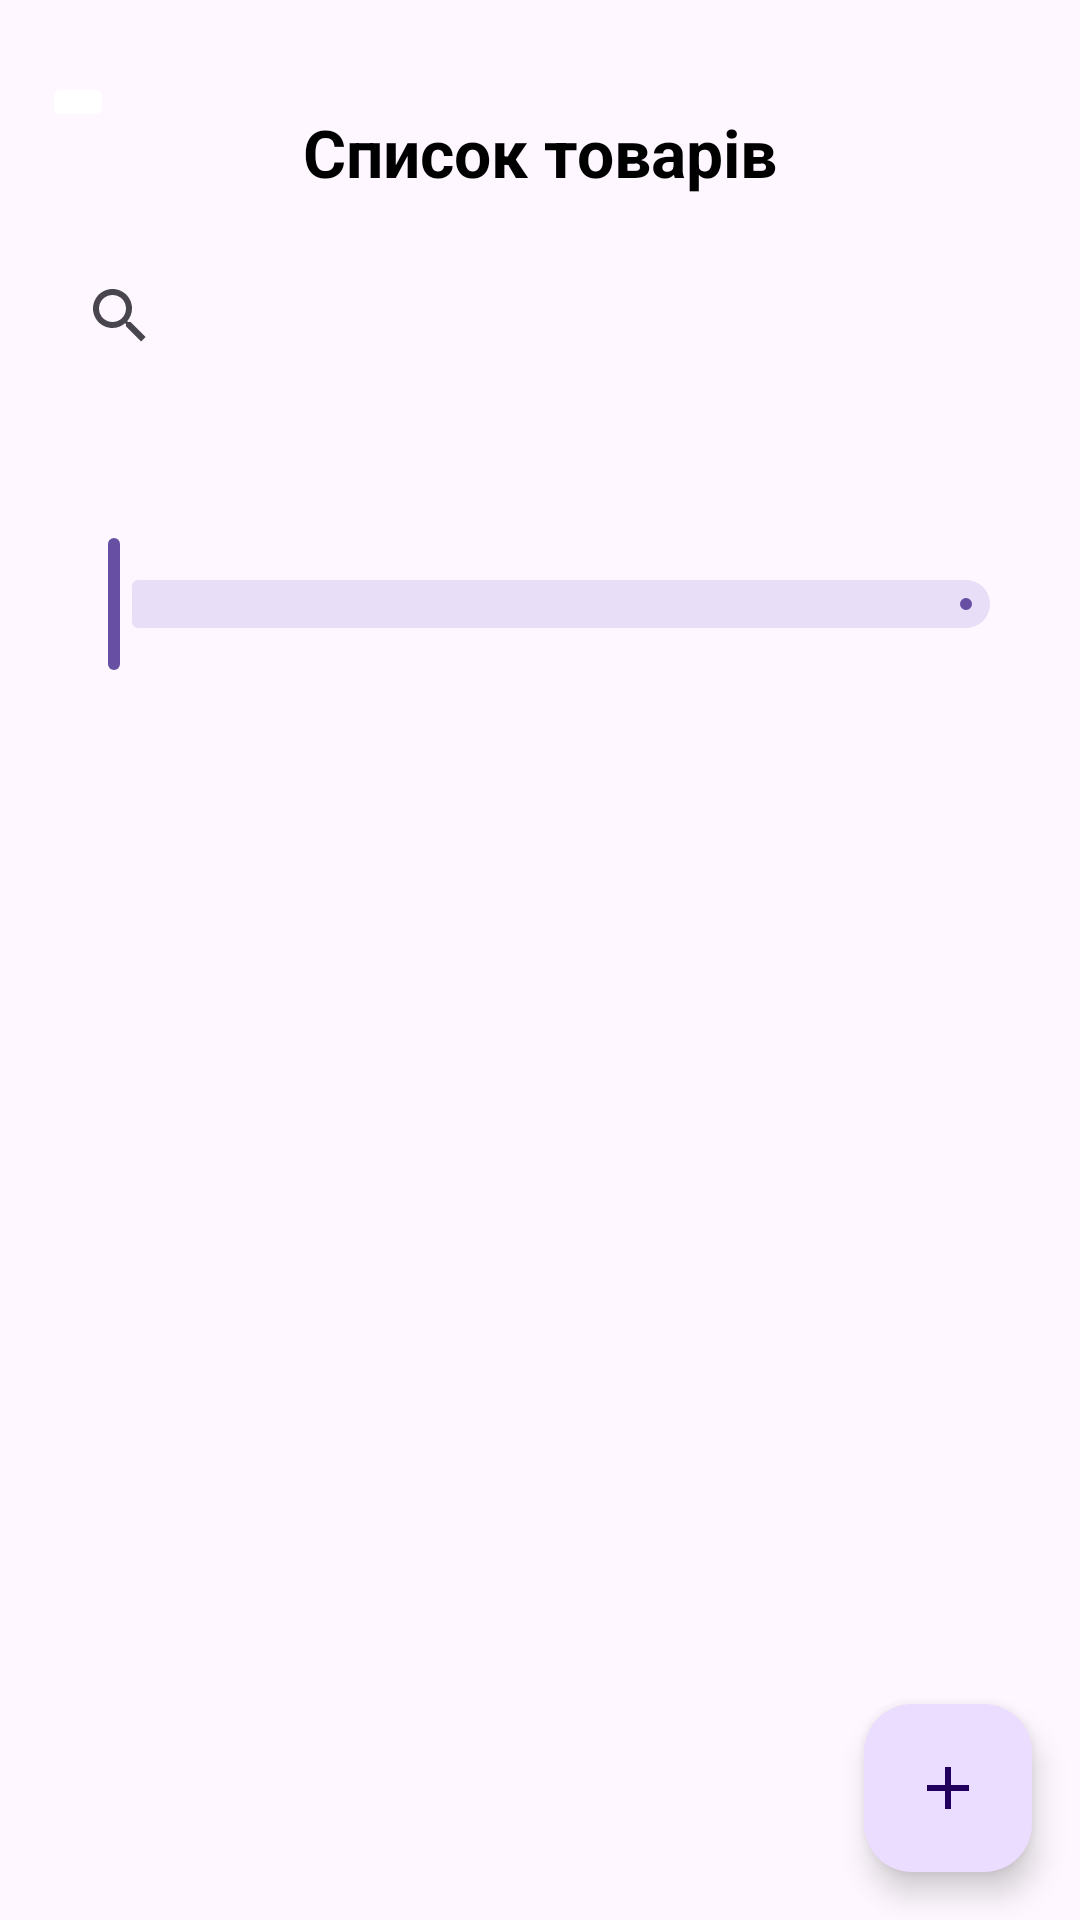

Where icons sit on this 1080px×1920px app screen, as (x1, y1, x2, y2):
Додати гру: (864, 1704, 1032, 1872)
